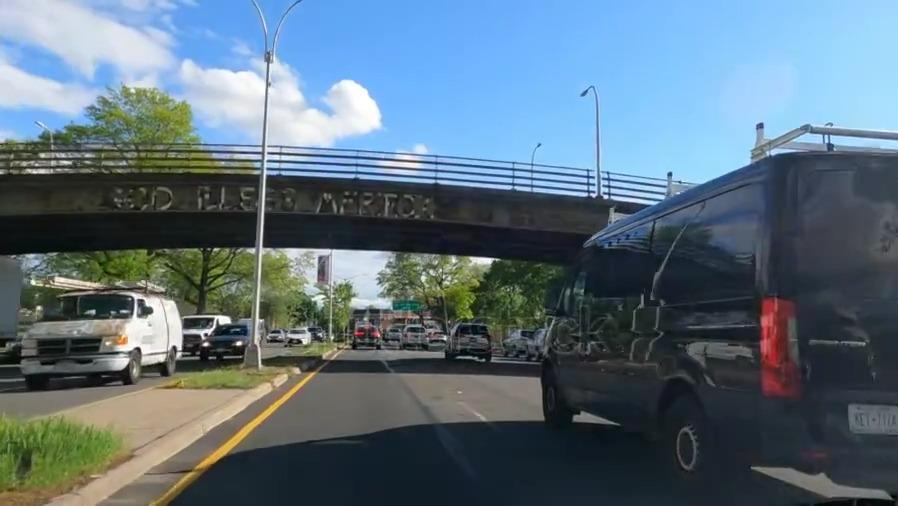car: (209, 323, 266, 362), (451, 320, 494, 359), (502, 328, 527, 362), (352, 323, 383, 350), (400, 323, 431, 349), (285, 326, 311, 351)
van: (563, 153, 897, 502), (21, 293, 194, 381), (184, 311, 228, 343)
wheel: (653, 383, 720, 492), (538, 366, 567, 423)
